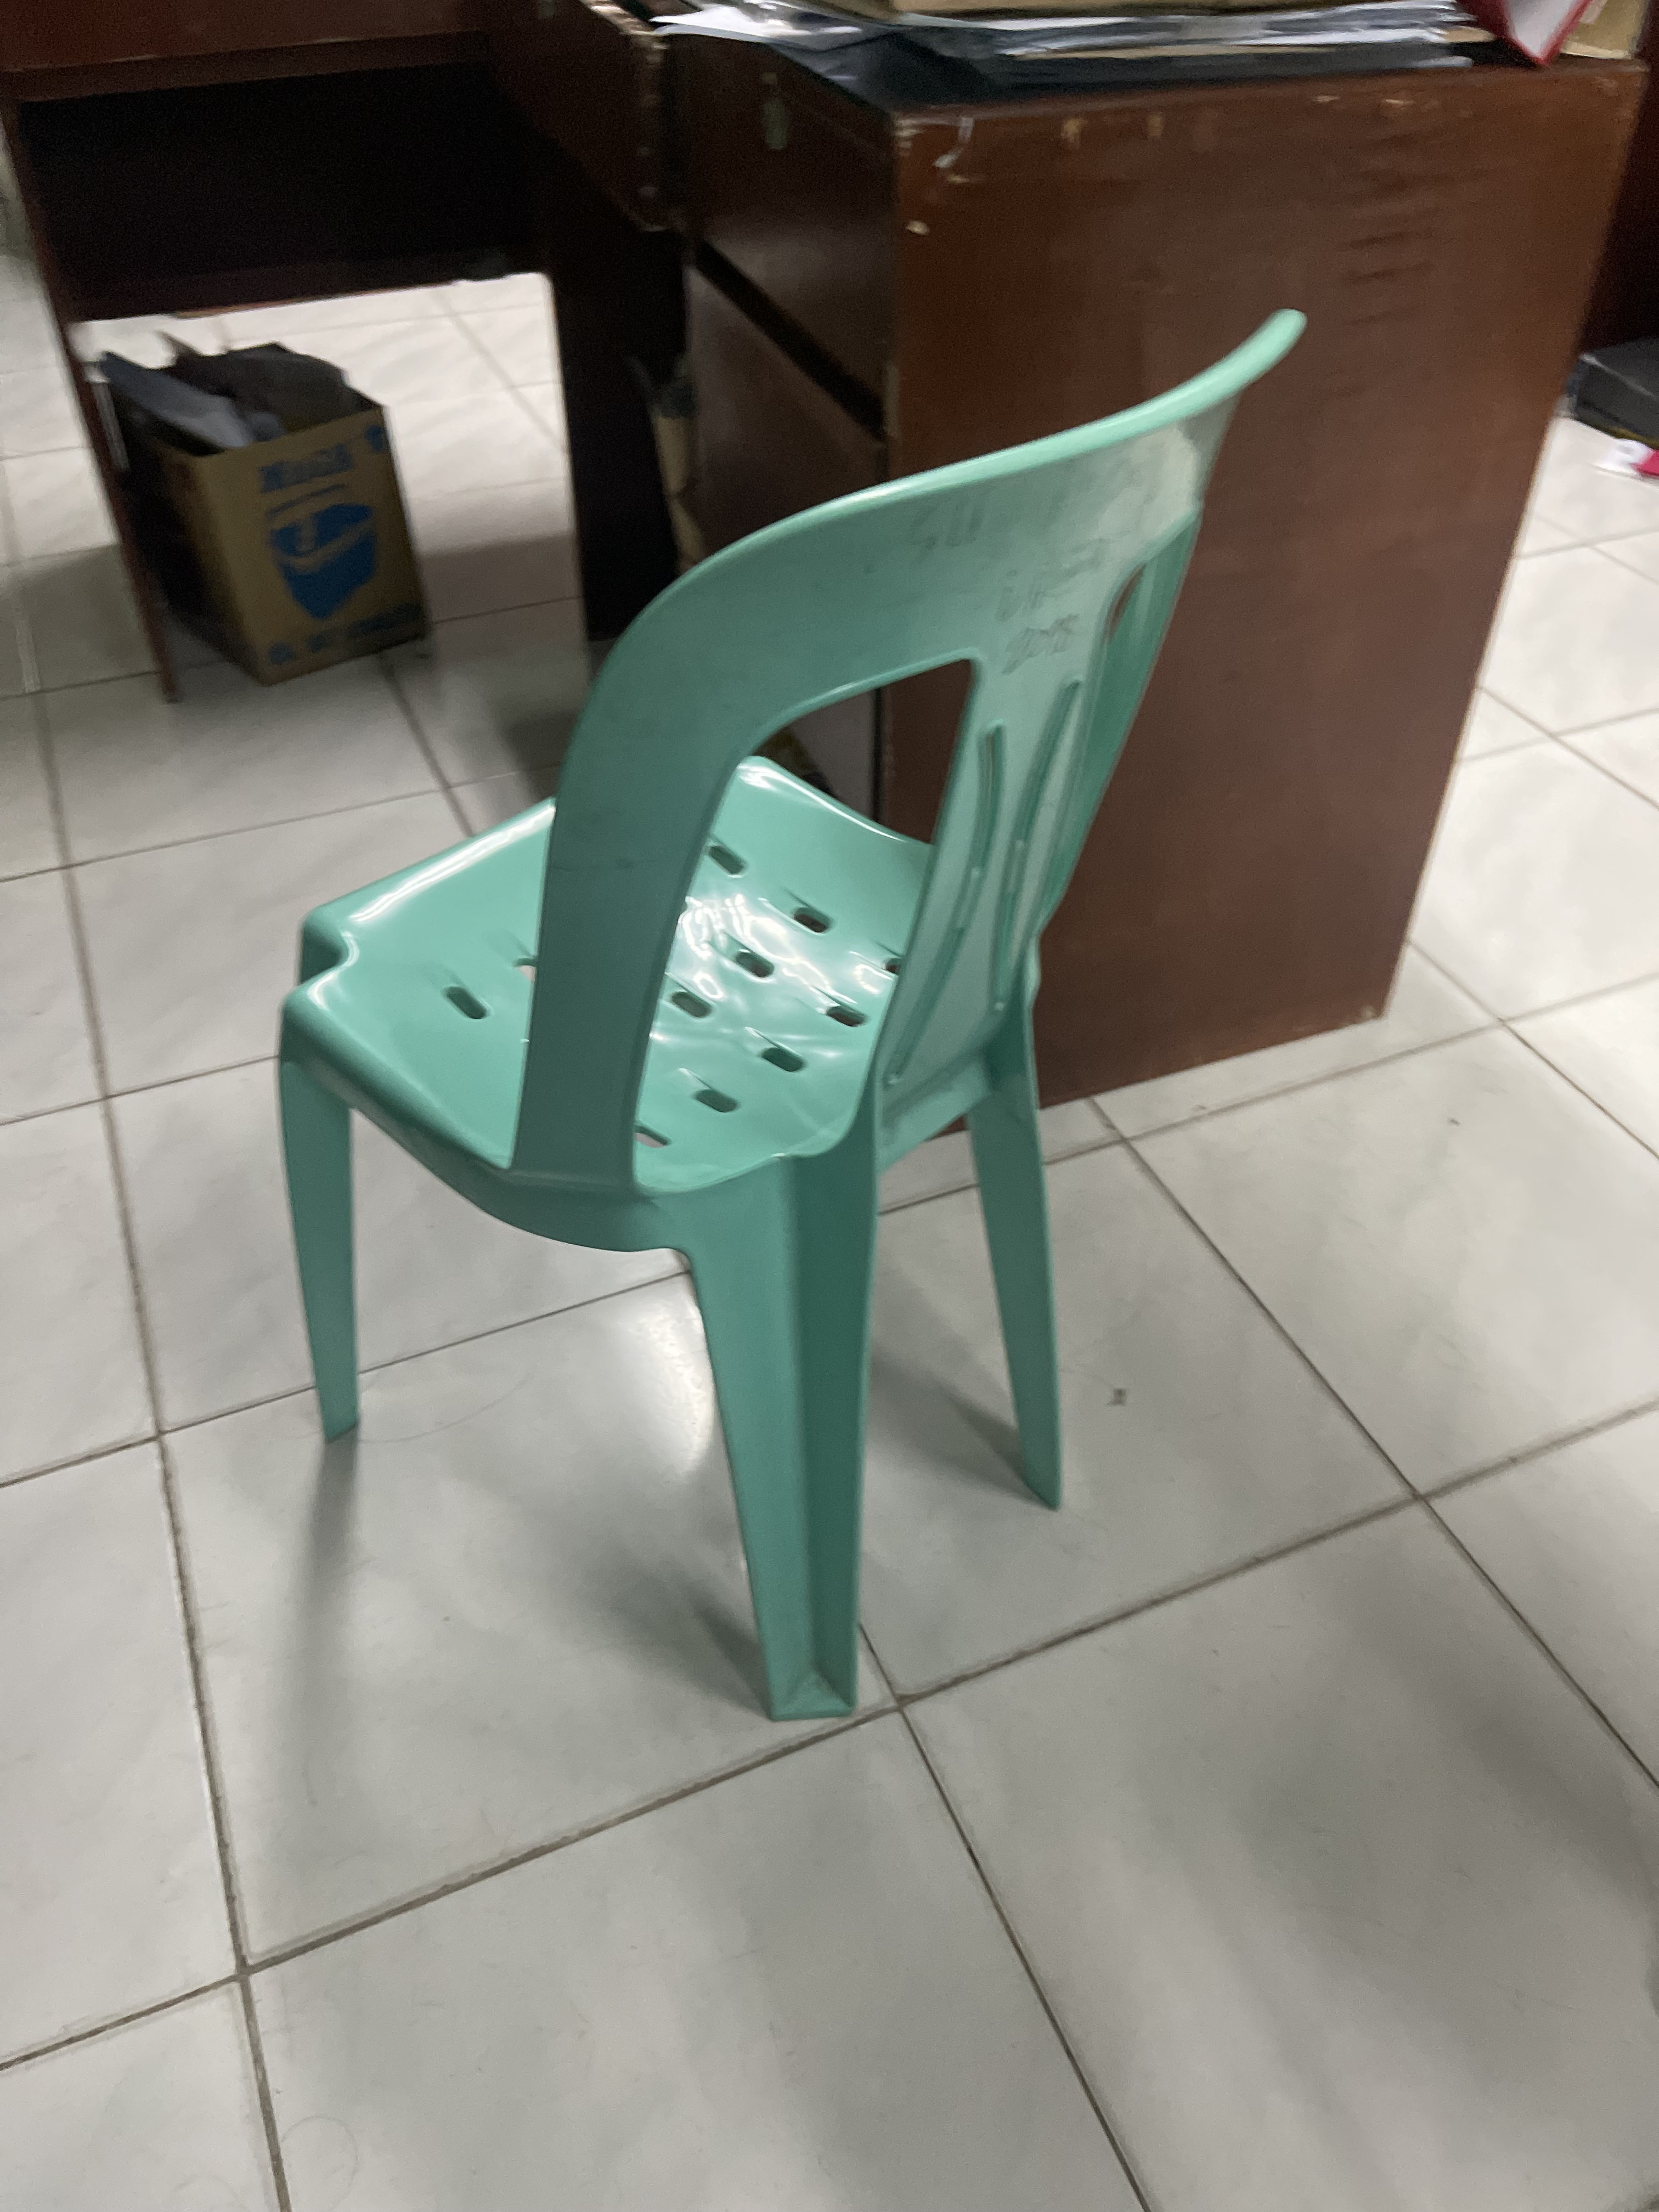chair2: (267, 303, 1321, 1730)
